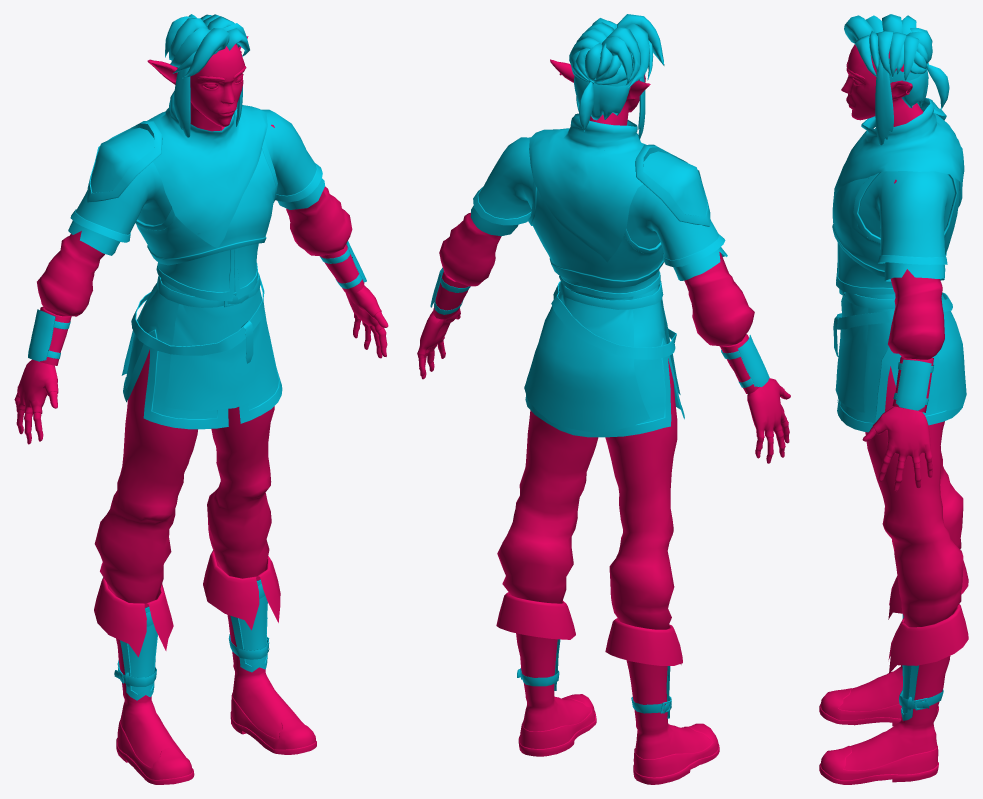
3 views of the same model, side by side, from view 1: azimuth 30°, elevation 25°; view 2: azimuth 150°, elevation 25°; view 3: azimuth 270°, elevation 25° (orthographic).
Parts seen in each view (by area): view 1: l_cuerpo, l_tunica_protectora, l_tunica, l_bufanda, l_falda_protectora, l_Armadura, l_hombrera, l_cabello, l_protector_botas, l_cinturon, l_protector_guantes, l_patillas (+1 smaller); view 2: l_cuerpo, l_tunica, l_bufanda, l_tunica_protectora, l_cabello, l_Armadura, l_falda_protectora, l_hombrera, l_cinturon, l_protector_guantes, l_correas_botas; view 3: l_cuerpo, l_tunica_protectora, l_bufanda, l_tunica, l_cabello, l_falda_protectora, l_Armadura, l_cinturon, l_protector_guantes, l_patillas, l_protector_botas, l_cola (+1 smaller).
Part boxes in pixels (<box>): l_cuerpo: <box>14,36,388,784</box>; l_tunica_protectora: <box>70,109,322,301</box>; l_tunica: <box>68,178,324,410</box>; l_bufanda: <box>147,91,267,248</box>; l_falda_protectora: <box>123,278,282,429</box>; l_Armadura: <box>135,115,277,265</box>; l_hombrera: <box>87,121,162,202</box>; l_cabello: <box>165,14,249,78</box>; l_protector_botas: <box>120,579,267,700</box>; l_cinturon: <box>131,272,264,355</box>; l_protector_guantes: <box>28,241,366,361</box>; l_patillas: <box>173,67,242,137</box>; l_cuerpo: <box>417,59,790,784</box>; l_tunica: <box>470,206,727,433</box>; l_bufanda: <box>529,113,646,262</box>; l_tunica_protectora: <box>473,137,725,298</box>; l_cabello: <box>569,14,664,120</box>; l_Armadura: <box>528,180,663,287</box>; l_falda_protectora: <box>525,285,684,437</box>; l_hombrera: <box>635,144,710,226</box>; l_cinturon: <box>551,281,676,359</box>; l_protector_guantes: <box>430,267,769,386</box>; l_correas_botas: <box>517,669,671,713</box>; l_cuerpo: <box>819,44,968,784</box>; l_tunica_protectora: <box>836,171,954,294</box>; l_bufanda: <box>832,98,964,209</box>; l_tunica: <box>835,262,966,412</box>; l_cabello: <box>844,14,932,107</box>; l_falda_protectora: <box>837,294,962,432</box>; l_Armadura: <box>832,128,959,276</box>; l_cinturon: <box>837,289,952,329</box>; l_protector_guantes: <box>896,359,931,410</box>; l_patillas: <box>875,59,893,145</box>; l_protector_botas: <box>901,614,919,720</box>; l_cola: <box>926,63,949,108</box>.
Size of the model in its own units: 0.9056 by 1.77 by 0.3315.
